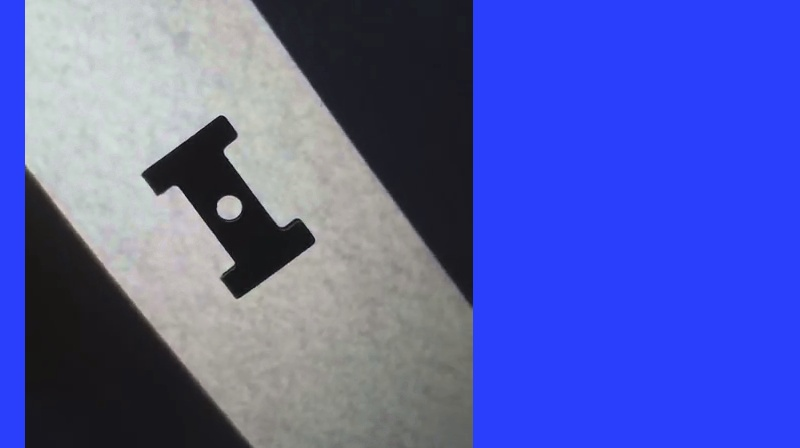O002: (135, 110, 314, 302)
